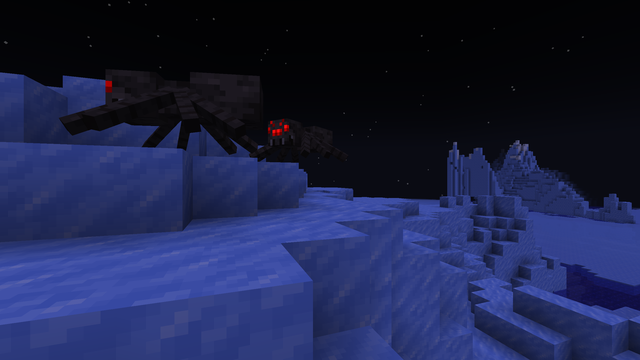araignees: (78, 31, 246, 154), (262, 111, 340, 164)
